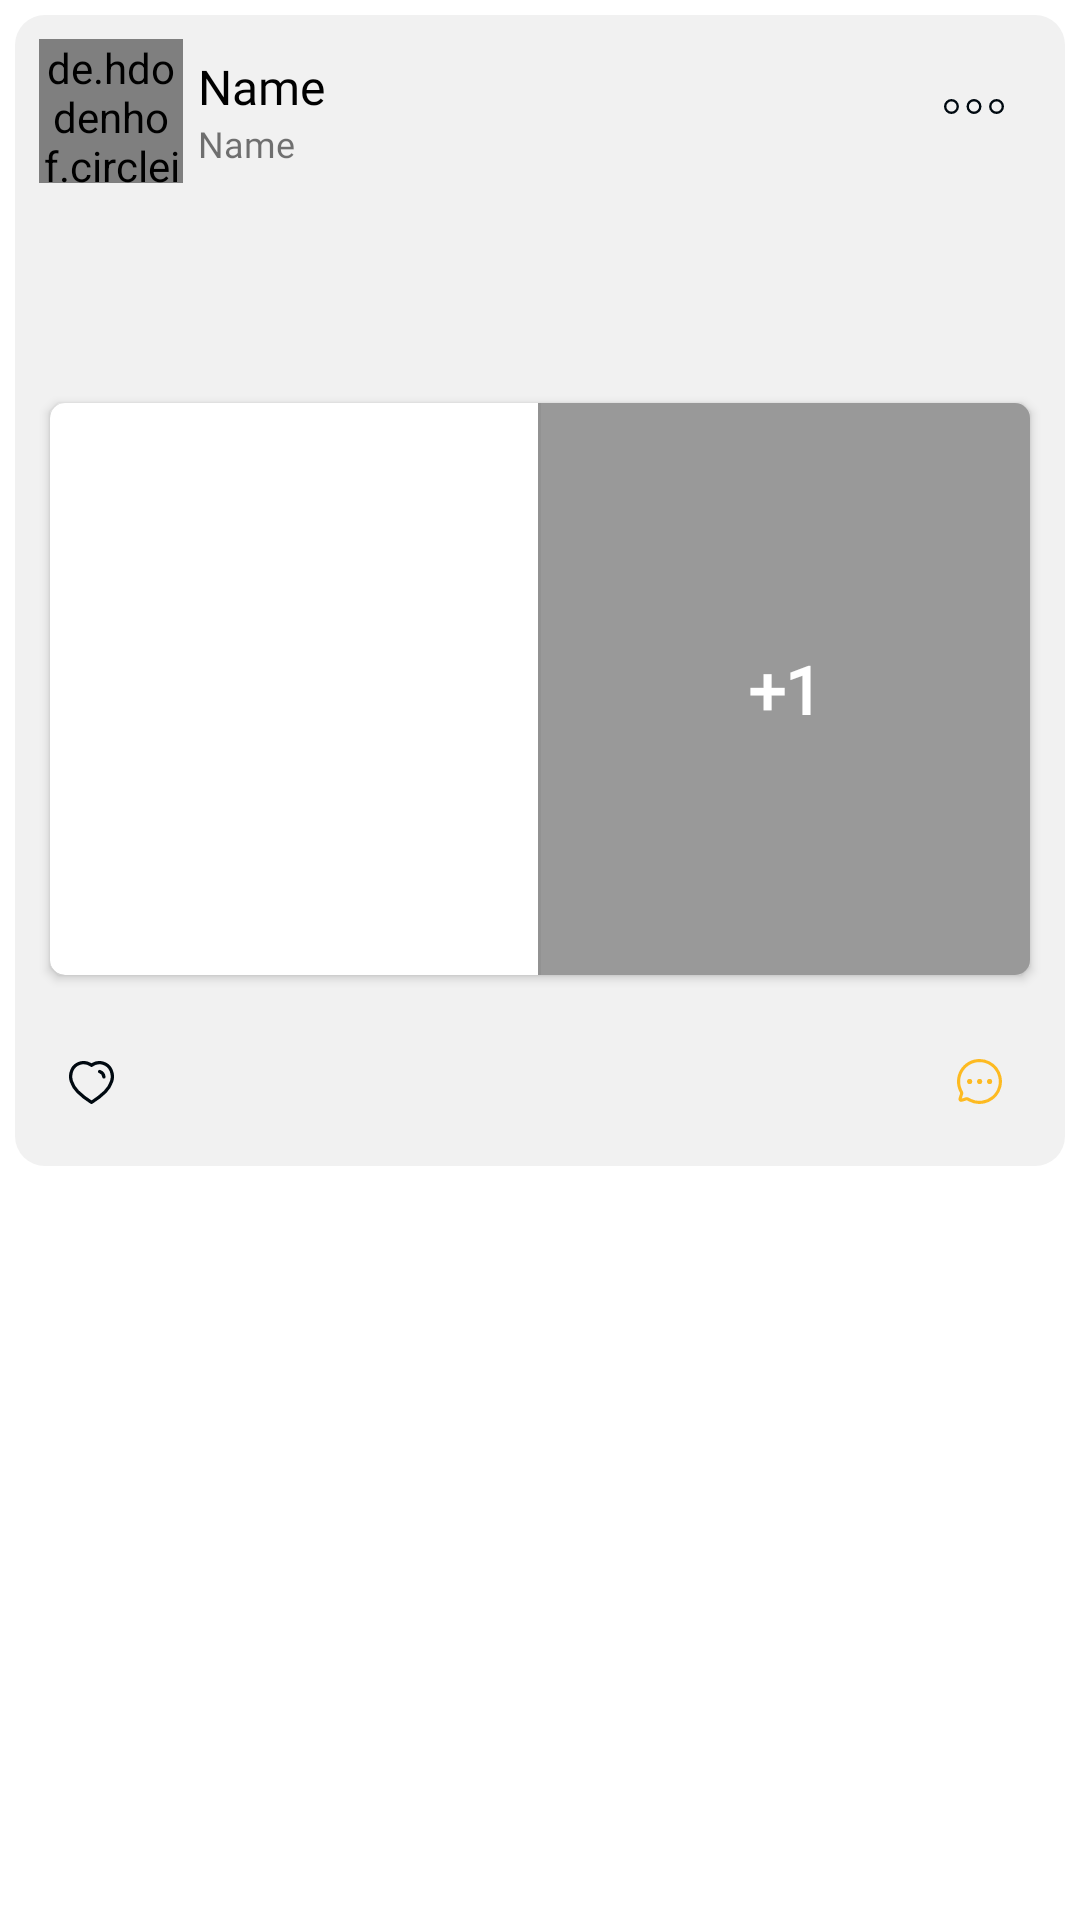

Named icons in this screenshot (1080px×1920px) and their centers, (x=x, y=y):
heart: (x=91, y=1082)
